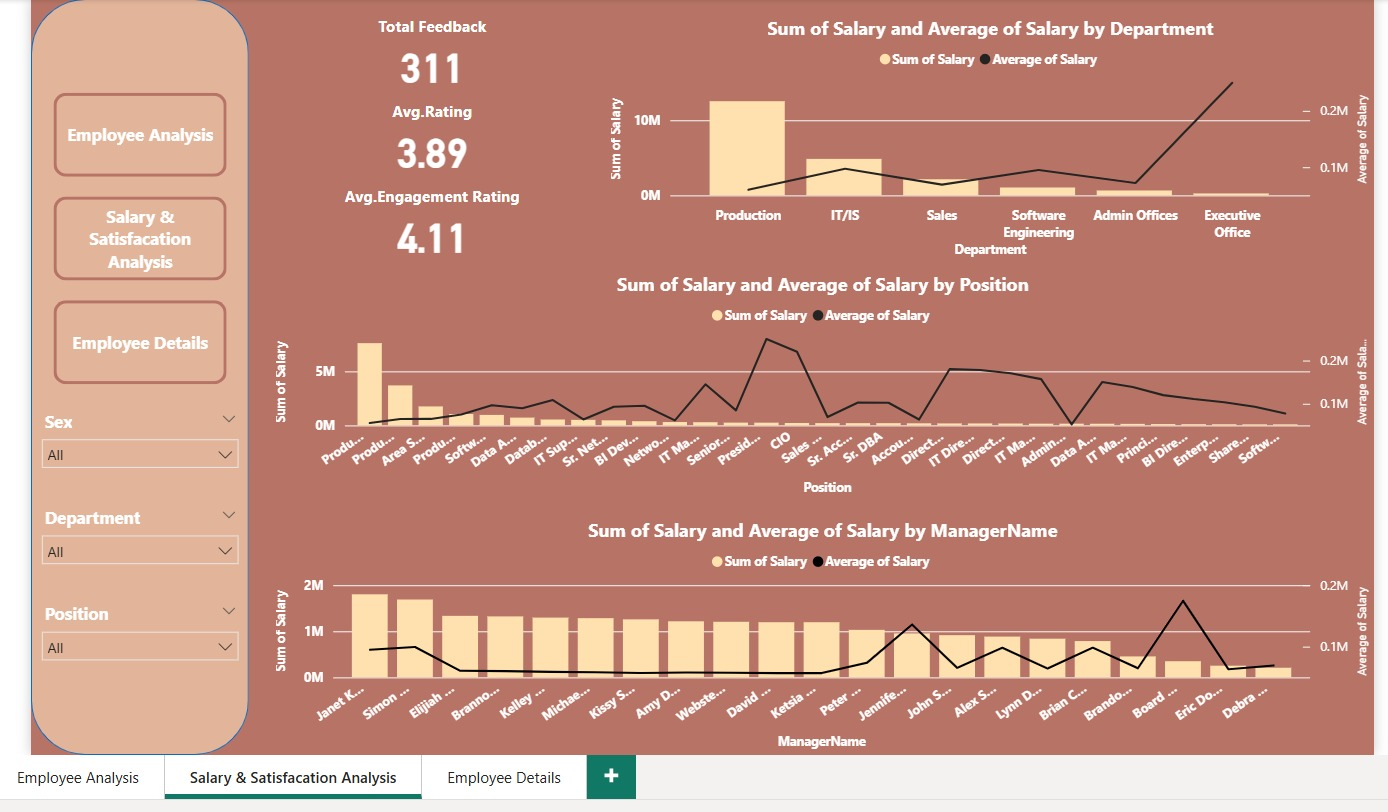

The dashboard page shown, as its layout file describes it:
{"tool":"powerbi","page":{"name":"Salary & Satisfacation Analysis","canvas":[1280,720],"ordinal":1},"visuals":[{"type":"shape","box":[0,0,207.5,720],"z":0},{"type":"actionButton","box":[21.2,88.8,165,80],"z":1000},{"type":"actionButton","box":[21.2,187.8,165,80],"z":2000},{"type":"actionButton","box":[21.2,286.8,165,80],"z":3000},{"type":"slicer","fields":{"Values":["HRDataset_v14.Department"]},"box":[0,477.2,207.5,72.5],"z":4000},{"type":"slicer","fields":{"Values":["HRDataset_v14.Position"]},"box":[0,568.8,207.5,75],"z":5000},{"type":"slicer","fields":{"Values":["HRDataset_v14.Sex"]},"box":[0,385.8,207.5,72.5],"z":6000},{"type":"lineStackedColumnComboChart","fields":{"Category":["HRDataset_v14.ManagerName"],"Y":["Sum(HRDataset_v14.Salary)"],"Y2":["Avg(HRDataset_v14.Salary)"]},"box":[228.6,494.1,1051.2,226.2],"z":7000},{"type":"lineStackedColumnComboChart","fields":{"Y":["Sum(HRDataset_v14.Salary)"],"Y2":["Avg(HRDataset_v14.Salary)"],"Category":["HRDataset_v14.Position"]},"box":[228.8,259.4,1051.2,218.8],"z":8000},{"type":"lineStackedColumnComboChart","fields":{"Y":["Sum(HRDataset_v14.Salary)"],"Y2":["Avg(HRDataset_v14.Salary)"],"Category":["HRDataset_v14.Department"]},"box":[547.6,15.5,732.1,235.7],"z":9000},{"type":"card","title":"Total Feedback","fields":{"Values":["CountNonNull(HRDataset_v14.EmpSatisfaction)"]},"box":[242.5,15,278.8,73.8],"z":10000},{"type":"card","title":"Avg.Rating","fields":{"Values":["Avg(HRDataset_v14.EmpSatisfaction)"]},"box":[242.5,96.2,278.8,73.8],"z":11000},{"type":"card","title":"Avg.Engagement Rating","fields":{"Values":["Avg(HRDataset_v14.EngagementSurvey)"]},"box":[242.5,177.5,278.8,73.8],"z":12000}]}

Visuals, with their boxes on the page's 1280x720 design canvas (x1, y1, x2, y2). These are canvas units, not pixel positions in the 1388x812 screenshot, which may show the page scaled, cropped or inside an application window:
shape: locate(0, 0, 208, 720)
actionButton: locate(21, 89, 186, 169)
actionButton: locate(21, 188, 186, 268)
actionButton: locate(21, 287, 186, 367)
slicer - HRDataset_v14.Department: locate(0, 477, 208, 550)
slicer - HRDataset_v14.Position: locate(0, 569, 208, 644)
slicer - HRDataset_v14.Sex: locate(0, 386, 208, 458)
lineStackedColumnComboChart - HRDataset_v14.ManagerName x Sum(HRDataset_v14.Salary): locate(229, 494, 1280, 720)
lineStackedColumnComboChart - Sum(HRDataset_v14.Salary) x Avg(HRDataset_v14.Salary): locate(229, 259, 1280, 478)
lineStackedColumnComboChart - Sum(HRDataset_v14.Salary) x Avg(HRDataset_v14.Salary): locate(548, 16, 1280, 251)
"Total Feedback" card: locate(242, 15, 521, 89)
"Avg.Rating" card: locate(242, 96, 521, 170)
"Avg.Engagement Rating" card: locate(242, 178, 521, 251)
